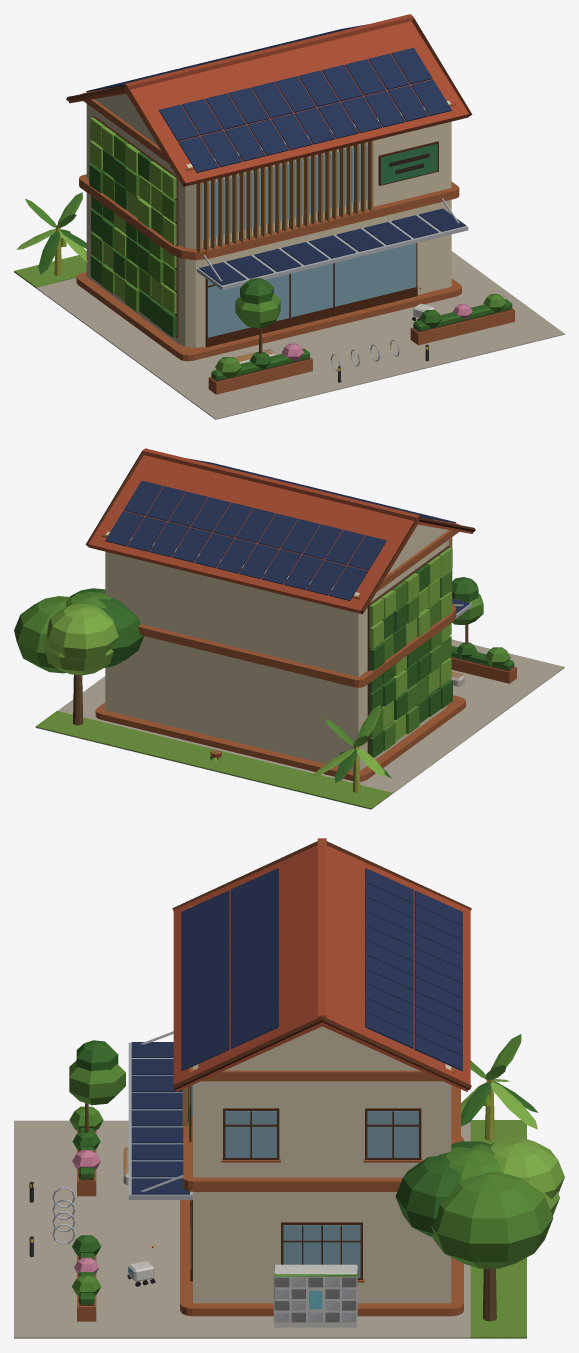
File: shop_2.glb
3 views of the same model, one above another, from view 1: azimuth 30°, elevation 25°; view 2: azimuth 150°, elevation 25°; view 3: azimuth 270°, elevation 25° (orthographic). The views are drawn at different scales.
Parts seen in each view (by area): view 1: body; view 2: body; view 3: body.
Part boxes in pixels (x1=…): body: x1=14, y1=14, x2=564, y2=419; body: x1=14, y1=448, x2=564, y2=809; body: x1=14, y1=838, x2=564, y2=1338.
Size of the model in its own units: 17.5 by 10.68 by 17.08.
